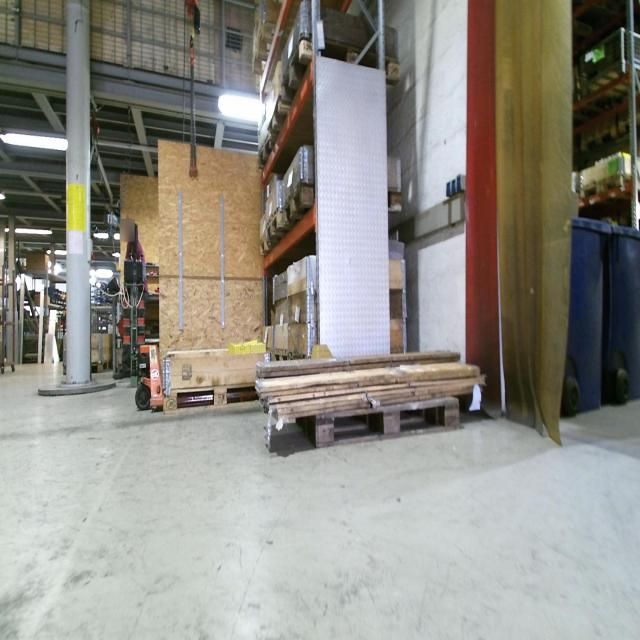pallet: (291, 388, 466, 451), (279, 32, 399, 123), (286, 180, 404, 238), (162, 383, 260, 425), (579, 169, 640, 206), (269, 100, 297, 161), (577, 123, 619, 158), (252, 20, 279, 73), (254, 136, 280, 174), (270, 208, 285, 258), (618, 114, 639, 139), (270, 349, 289, 375), (86, 357, 111, 375), (257, 238, 271, 263)
pallet_truck: (128, 217, 163, 416)
stillage: (574, 26, 639, 100)
